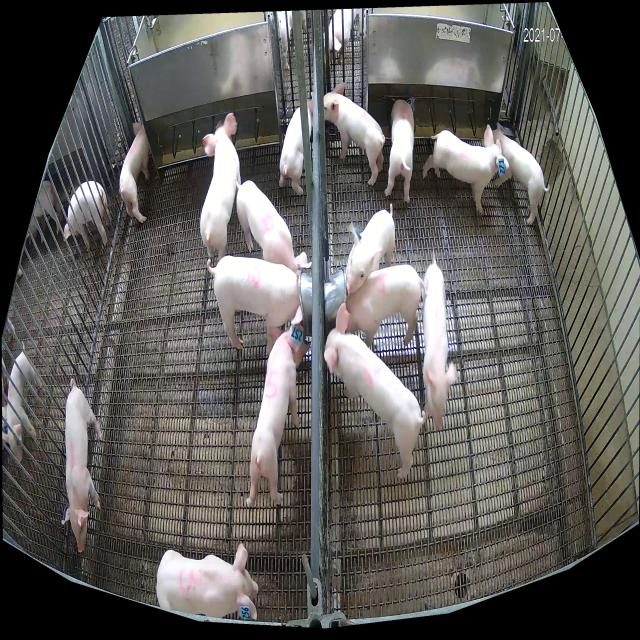pig: (324, 303, 426, 479), (246, 325, 310, 507), (206, 255, 302, 355), (156, 543, 259, 620), (422, 125, 510, 214), (235, 179, 312, 274), (62, 378, 102, 552), (422, 251, 458, 432), (324, 82, 386, 186), (345, 265, 423, 347), (200, 113, 241, 259), (493, 122, 550, 226), (346, 204, 395, 297), (279, 92, 314, 196), (384, 97, 414, 203), (119, 123, 150, 222)
